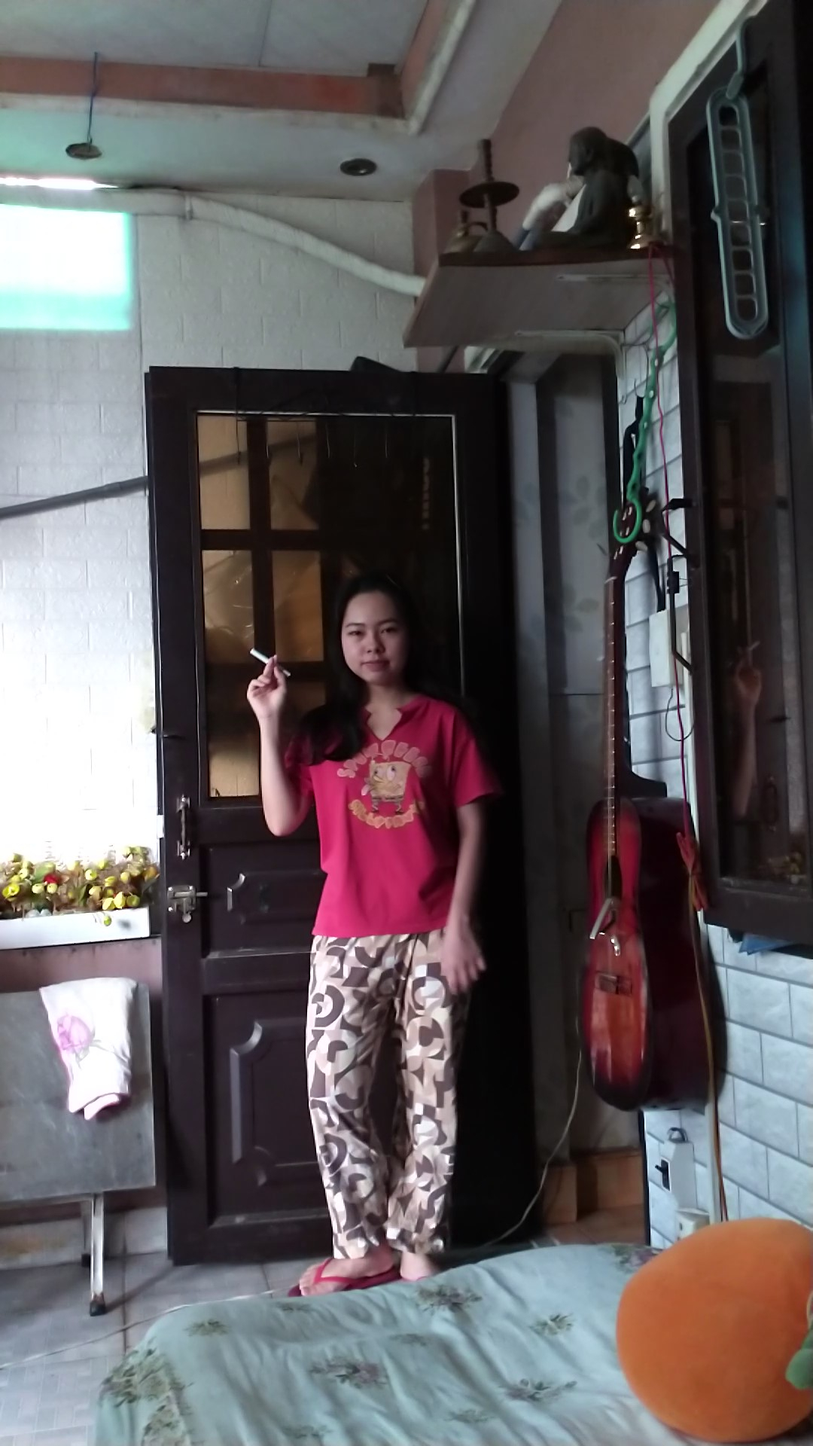cigarette: (245, 643, 271, 667)
person: (246, 519, 509, 1306)
